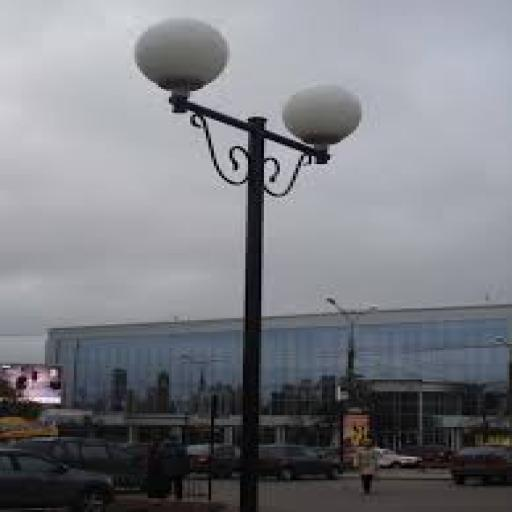Light-pole: (139, 19, 368, 512)
